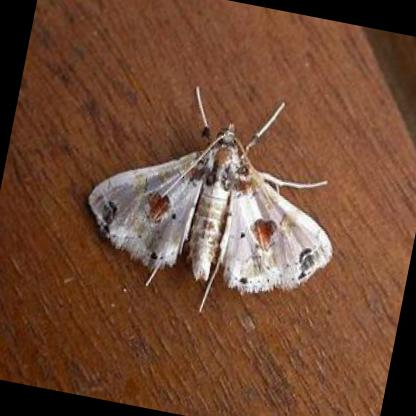leucinodes: (86, 127, 331, 294)
